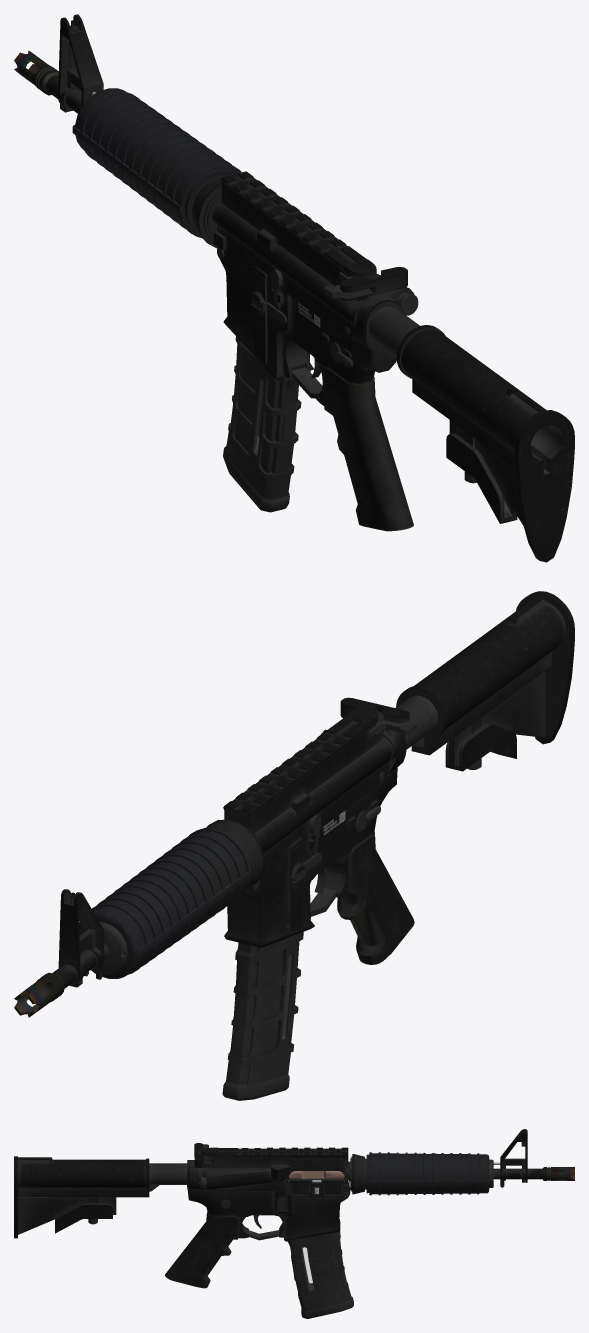
The picture shows the model from 3 angles, top to bottom: view 1: azimuth 30°, elevation 25°; view 2: azimuth 150°, elevation 25°; view 3: azimuth 270°, elevation 25°; orthographic projection. The views are drawn at different scales.
Parts seen in each view (by area): view 1: ar15, magazine, ar15.005; view 2: ar15, magazine, ar15.005; view 3: ar15, magazine, dust cover, bolt carrier, ar15.005.
Boxes of the visible parts, left/top/right/bottom form: ar15: left=14, top=14, right=574, bottom=562; magazine: left=223, top=336, right=301, bottom=512; ar15.005: left=325, top=267, right=407, bottom=300; ar15: left=14, top=591, right=574, bottom=1017; magazine: left=222, top=932, right=303, bottom=1100; ar15.005: left=340, top=697, right=416, bottom=737; ar15: left=14, top=1129, right=574, bottom=1288; magazine: left=285, top=1231, right=353, bottom=1318; dust cover: left=289, top=1180, right=344, bottom=1196; bolt carrier: left=289, top=1171, right=344, bottom=1178; ar15.005: left=194, top=1143, right=213, bottom=1167.
Size of the model in its own units: 0.6808 by 2.47 by 6.79.
2 materials, 2 textured.
